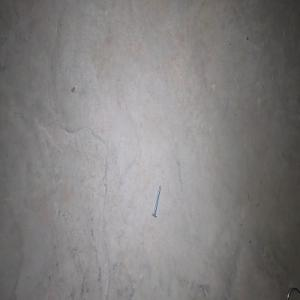Bolt: (151, 184, 161, 217)
